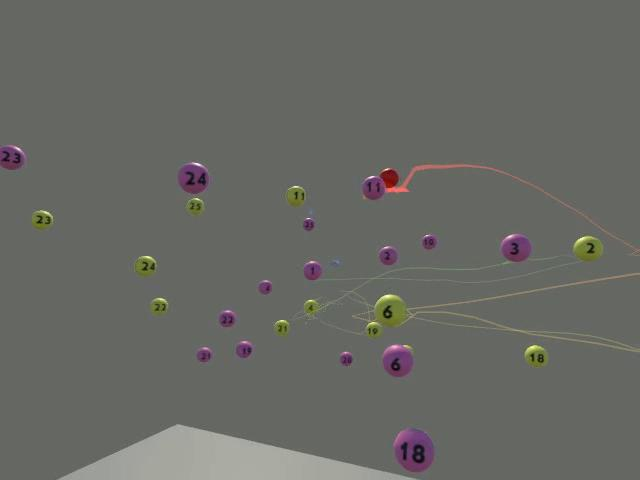ball_01_pink: (303, 260, 322, 280)
ball_02_pink: (378, 246, 397, 265)
ball_02_yellow: (572, 235, 602, 261)
ball_03_pink: (500, 233, 530, 262)
ball_04_pink: (258, 281, 272, 294)
ball_04_yellow: (303, 299, 318, 315)
ball_06_pink: (381, 344, 413, 377)
ball_06_yellow: (374, 294, 405, 327)
ball_10_pink: (421, 233, 437, 249)
ball_11_pink: (361, 175, 385, 200)
ball_11_yellow: (286, 185, 305, 206)
ball_18_pink: (394, 429, 435, 473)
ball_18_yellow: (524, 345, 548, 368)
ball_19_pink: (236, 341, 253, 358)
ball_19_yellow: (365, 321, 382, 338)
ball_20_pink: (339, 351, 352, 365)
ball_21_pink: (196, 347, 211, 362)
ball_21_yellow: (273, 320, 290, 335)
ball_22_pink: (218, 309, 236, 327)
ball_22_yellow: (150, 297, 168, 314)
ball_23_pink: (0, 146, 24, 170)
ball_23_yellow: (32, 210, 54, 229)
ball_24_pink: (178, 162, 209, 193)
ball_24_yellow: (134, 254, 156, 275)
ball_25_pink: (302, 217, 315, 230)
ball_25_yellow: (186, 197, 204, 215)
ball_unknown: (402, 344, 413, 354)
user_cursor: (379, 167, 399, 188)
